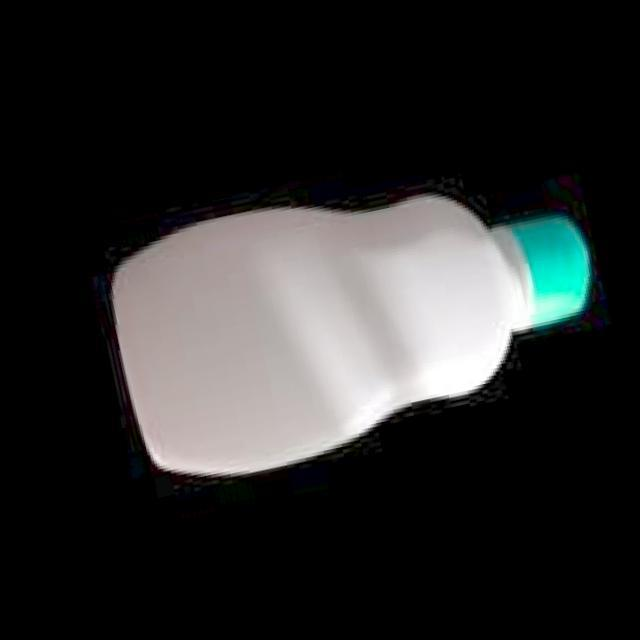HDPE Plastic: (109, 188, 598, 482)
